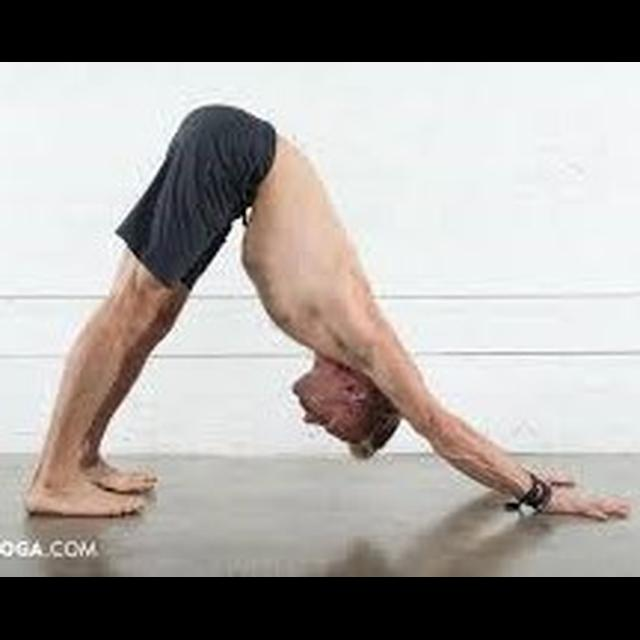Downward-Facing_Dog: (16, 101, 634, 537)
